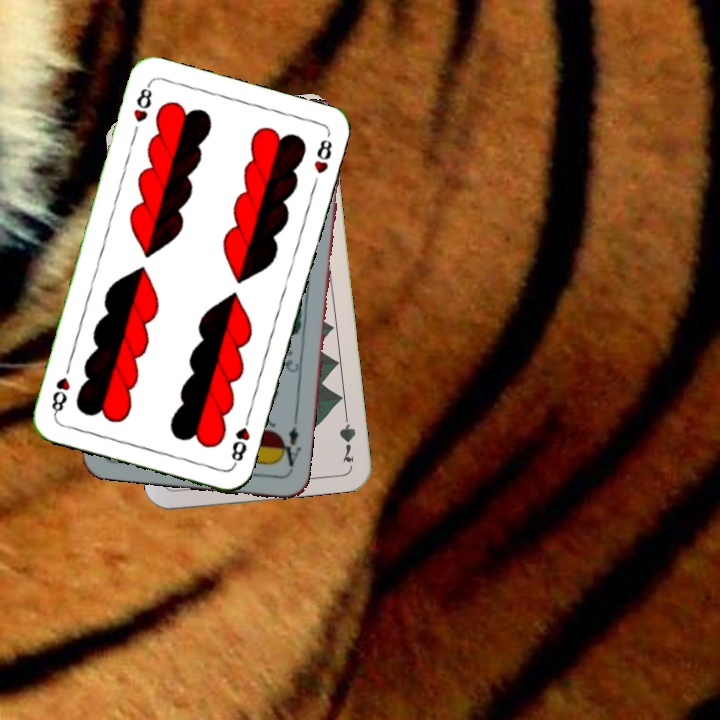EA: (275, 414, 304, 474)
G7: (335, 406, 359, 465)
H8: (227, 410, 253, 468), (129, 80, 155, 125)
